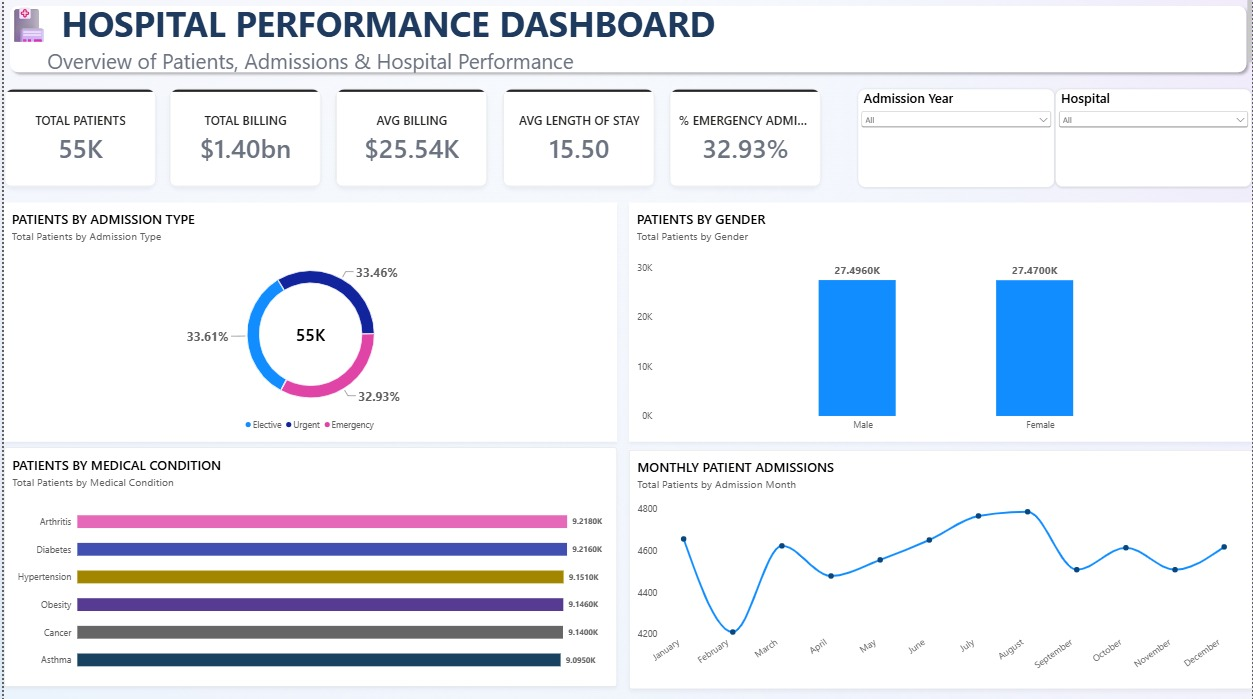

This screenshot's page, from the dashboard's own definition file:
{"tool":"powerbi","page":{"name":"Overview","canvas":[1920,1080],"ordinal":0},"visuals":[{"type":"cardVisual","fields":{"Data":["Fact_Patients.Total Patients"]},"box":[0,136.1,234.2,151],"z":0},{"type":"cardVisual","fields":{"Data":["Fact_Patients.Total Billing"]},"box":[254.3,136.1,234.2,151],"z":1000},{"type":"cardVisual","fields":{"Data":["Fact_Patients.Avg Billing per Patient"]},"box":[509.2,136.3,234.2,151],"z":2000},{"type":"cardVisual","fields":{"Data":["Fact_Patients.Avg Length of Stay"]},"box":[767.3,136.1,234.2,151],"z":3000},{"type":"slicer","fields":{"Values":["Fact_Patients.Admission Year"]},"box":[1313.8,136.1,303.3,151.7],"z":4000},{"type":"slicer","fields":{"Values":["Fact_Patients.Hospital"]},"box":[1618.1,137,302.4,151.2],"z":5000},{"type":"donutChart","title":"PATIENTS BY ADMISSION TYPE","fields":{"Category":["Fact_Patients.Admission Type"],"Y":["Fact_Patients.Total Patients"]},"box":[0,312.3,943.5,368],"z":6000},{"type":"clusteredColumnChart","title":"PATIENTS BY GENDER","fields":{"Category":["Fact_Patients.Gender"],"Y":["Fact_Patients.Total Patients"]},"box":[961.3,312.3,959.1,368],"z":7000},{"type":"clusteredBarChart","title":"PATIENTS BY MEDICAL CONDITION","fields":{"Category":["Fact_Patients.Medical Condition"],"Y":["Fact_Patients.Total Patients"]},"box":[0,689.2,943.5,368],"z":8000},{"type":"lineChart","title":"MONTHLY PATIENT ADMISSIONS","fields":{"Category":["Fact_Patients.Admission Month"],"Y":["Fact_Patients.Total Patients"]},"box":[961.3,691.5,959.1,368],"z":9000},{"type":"cardVisual","fields":{"Data":["Fact_Patients.% Emergency Admissions"]},"box":[1023.8,136.1,234.2,151],"z":10000},{"type":"shape","box":[0,0,1920.4,120.3],"z":11000},{"type":"textbox","box":[0,0,1920.4,112.3],"z":12000}]}

Visuals, with their boxes in screenshot pixels (x1, y1, x2, y2), scaled from the page's 1920x1080 canvas onto the 1253x699 screenshot:
cardVisual - Fact_Patients.Total Patients: 0 88 153 186
cardVisual - Fact_Patients.Total Billing: 166 88 319 186
cardVisual - Fact_Patients.Avg Billing per Patient: 332 88 485 186
cardVisual - Fact_Patients.Avg Length of Stay: 501 88 654 186
slicer - Fact_Patients.Admission Year: 857 88 1055 186
slicer - Fact_Patients.Hospital: 1056 89 1252 187
"PATIENTS BY ADMISSION TYPE" donutChart: 0 202 616 440
"PATIENTS BY GENDER" clusteredColumnChart: 627 202 1252 440
"PATIENTS BY MEDICAL CONDITION" clusteredBarChart: 0 446 616 684
"MONTHLY PATIENT ADMISSIONS" lineChart: 627 448 1252 686
cardVisual - Fact_Patients.% Emergency Admissions: 668 88 821 186
shape: 0 0 1252 78
textbox: 0 0 1252 73
